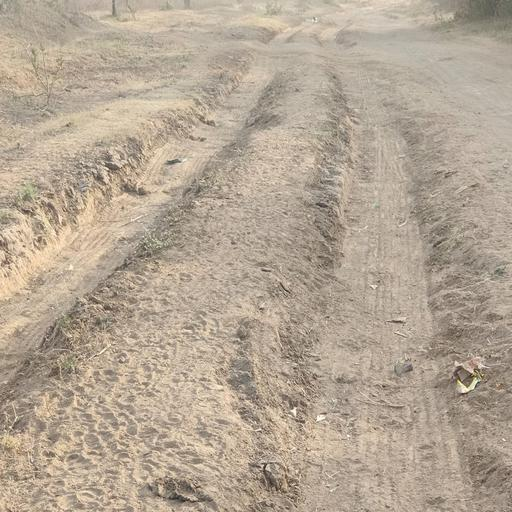vehicle_track: (239, 8, 485, 512), (0, 19, 285, 426)
